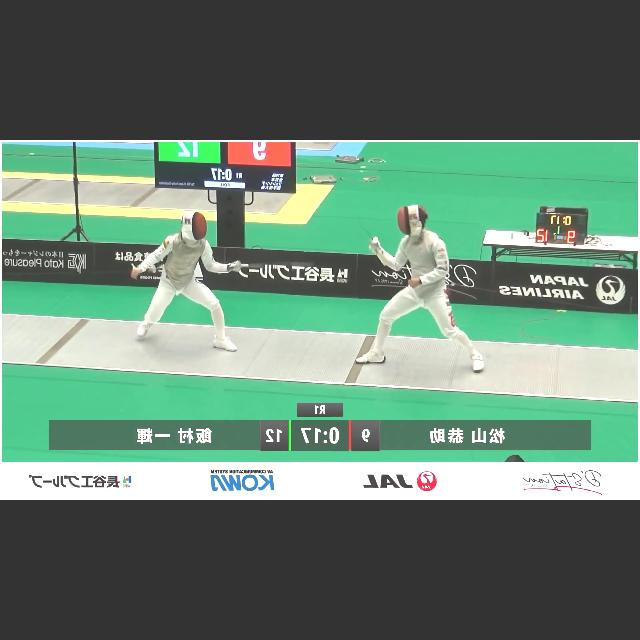blade: (226, 259, 320, 273), (350, 212, 384, 250)
